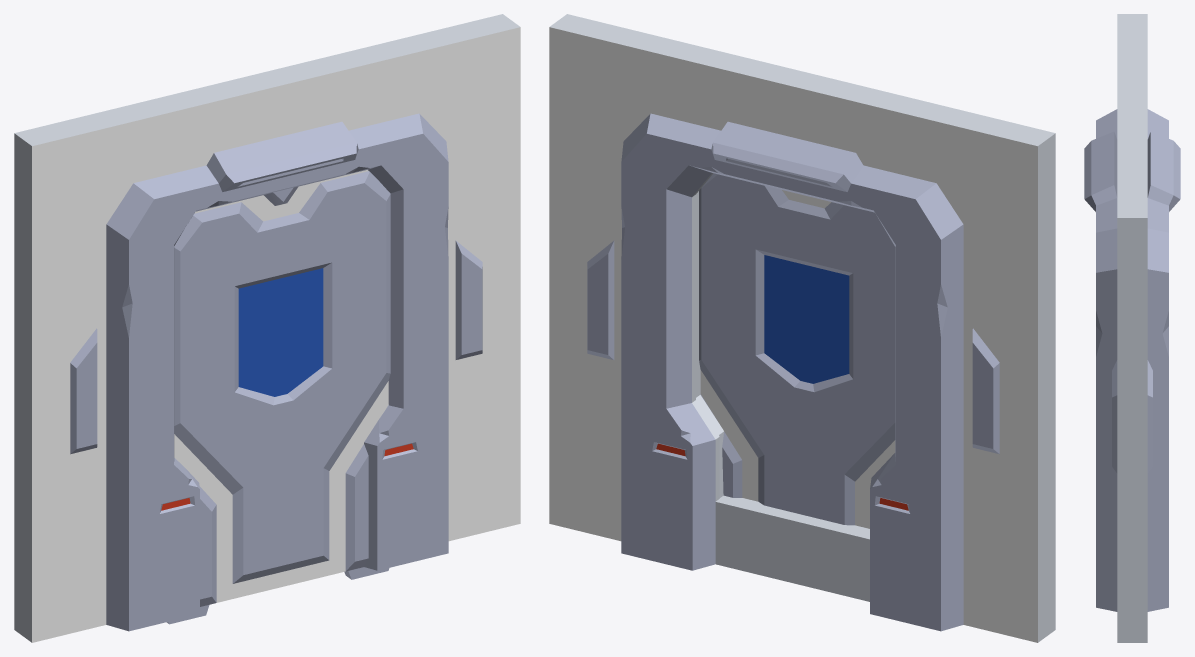
Rendered from MM_Door_Edit.fbx.
3 views of the same model, side by side, from view 1: azimuth 30°, elevation 25°; view 2: azimuth 150°, elevation 25°; view 3: azimuth 270°, elevation 25° (orthographic). The views are drawn at different scales.
Visible parts, largest first — view 1: ExitDoorFrame.001, ExitDoor, ExitDoor.001; view 2: ExitDoorFrame.001, ExitDoor, ExitDoor.001; view 3: ExitDoorFrame.001.
Boxes of the visible parts, x1,y1,x2,y2 form: ExitDoorFrame.001: (14, 14, 520, 642); ExitDoor: (167, 170, 390, 624); ExitDoor.001: (238, 268, 323, 396); ExitDoorFrame.001: (549, 14, 1055, 642); ExitDoor: (699, 173, 895, 528); ExitDoor.001: (764, 255, 849, 383); ExitDoorFrame.001: (1084, 14, 1180, 642).
Bounding box in the file's own units: 306 × 305 × 60.92.
